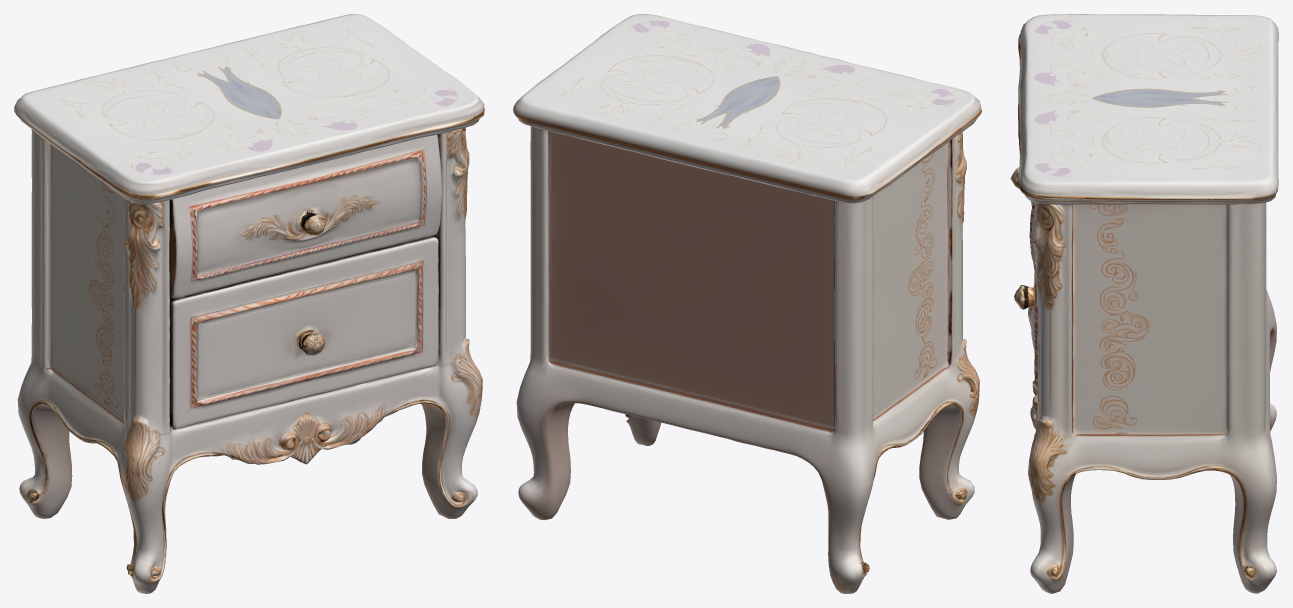
Rendered from base_basic_pbr.fbx.
3 views of the same model, side by side, from view 1: azimuth 30°, elevation 25°; view 2: azimuth 150°, elevation 25°; view 3: azimuth 270°, elevation 25° (orthographic).
Visible parts, largest first — view 1: model; view 2: model; view 3: model.
Part boxes in pixels (bbox=[...]): model: bbox=[14, 14, 484, 593]; model: bbox=[513, 14, 981, 593]; model: bbox=[1010, 14, 1278, 593].
Size of the model in its own units: 168 by 186 by 108.
1 material, 1 textured.
